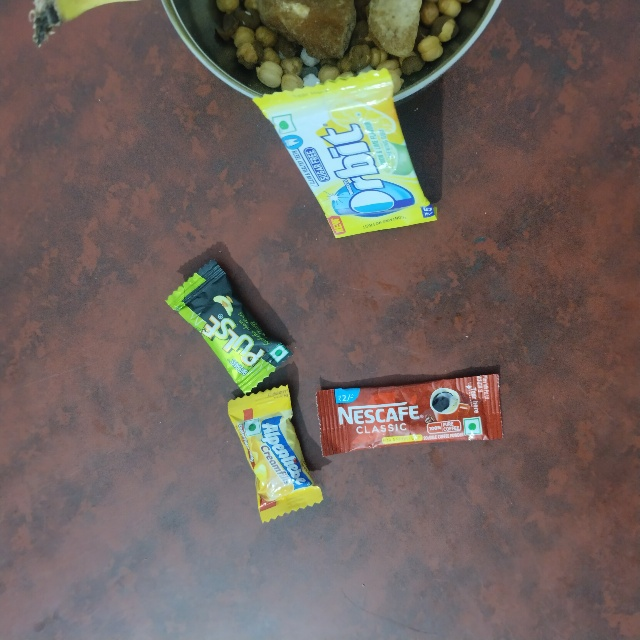Alpenlibe Creamfills: (222, 399, 294, 526)
Nescafe Coffee: (504, 365, 580, 554)
Orbit: (265, 95, 390, 266)
Pulse: (163, 303, 233, 426)
